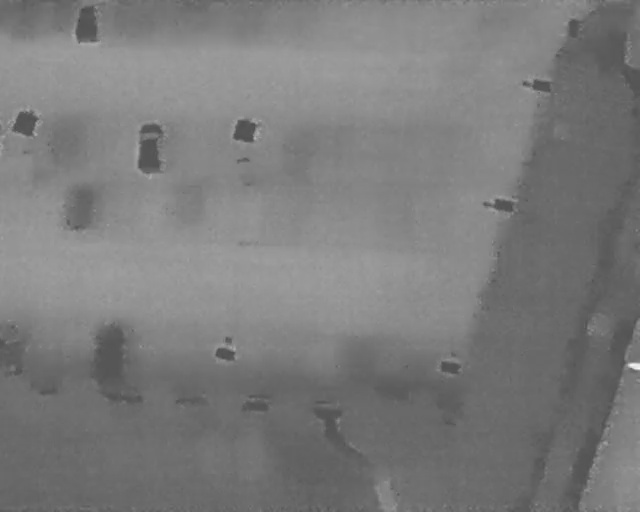Car: (136, 122, 166, 175), (74, 4, 102, 43)
